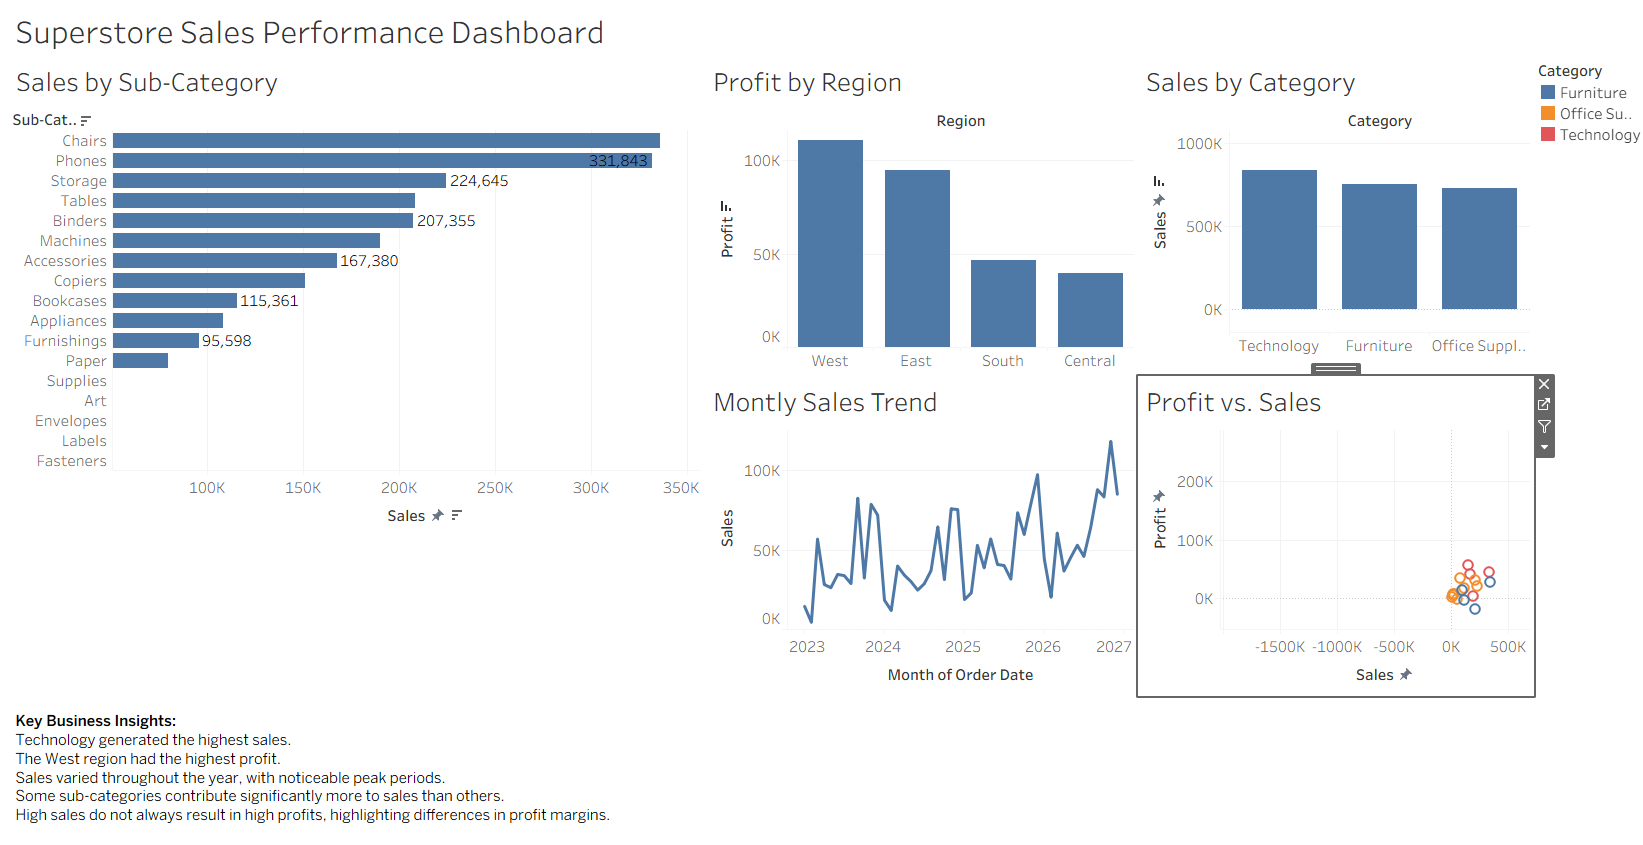

This screenshot's page, from the dashboard's own definition file:
{"tool":"tableau","page":{"name":"Superstore Sales Performance Dashboard","canvas":[1000,1000],"units":"permille","ordinal":0},"visuals":[{"type":"title","box":[4.8,9.4,990.3,58.8]},{"type":"worksheet","title":"Sales by Sub-Category","mark":"Automatic","rows":["Sub-Category"],"cols":["Sales"],"box":[4.8,68.2,420.8,752.5]},{"type":"worksheet","title":"Profit by Region","mark":"Automatic","rows":["Profit"],"cols":["Region"],"box":[425.6,68.2,261,376.3]},{"type":"worksheet","title":"Sales by Category","mark":"Automatic","rows":["Sales"],"cols":["Category"],"box":[686.6,68.2,239.1,376.3]},{"type":"legend","title":"Profit vs. Sales","param":"[federated.0gms4gf1fnv4ws16n8lid16rvm0b].[none:Category:nk]","box":[925.8,68.2,69.4,109.3]},{"type":"worksheet","title":"Monthly Sales Trend","mark":"Automatic","rows":["Sales"],"cols":["Order Date"],"box":[425.6,444.4,261,376.3]},{"type":"worksheet","title":"Profit vs. Sales","mark":"Automatic","rows":["Profit"],"cols":["Sales"],"box":[686.6,444.4,239.1,376.3]},{"type":"text","box":[4.8,820.7,990.3,169.9]}]}

Visuals, with their boxes on the dashboard's canvas, which has no fixed pixel size, in thousandths of its width and height (x1, y1, x2, y2). These are canvas units, not pixel positions in the 1643x845 screenshot, which may show the page scaled, cropped or inside an application window:
title: [5,9,995,68]
"Sales by Sub-Category" worksheet: [5,68,426,821]
"Profit by Region" worksheet: [426,68,687,444]
"Sales by Category" worksheet: [687,68,926,444]
"Profit vs. Sales" legend: [926,68,995,178]
"Monthly Sales Trend" worksheet: [426,444,687,821]
"Profit vs. Sales" worksheet: [687,444,926,821]
text: [5,821,995,991]
